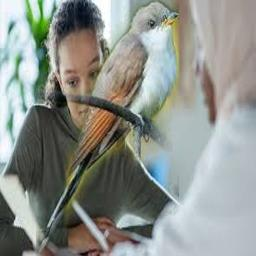Cuckoo: (36, 0, 179, 256)
